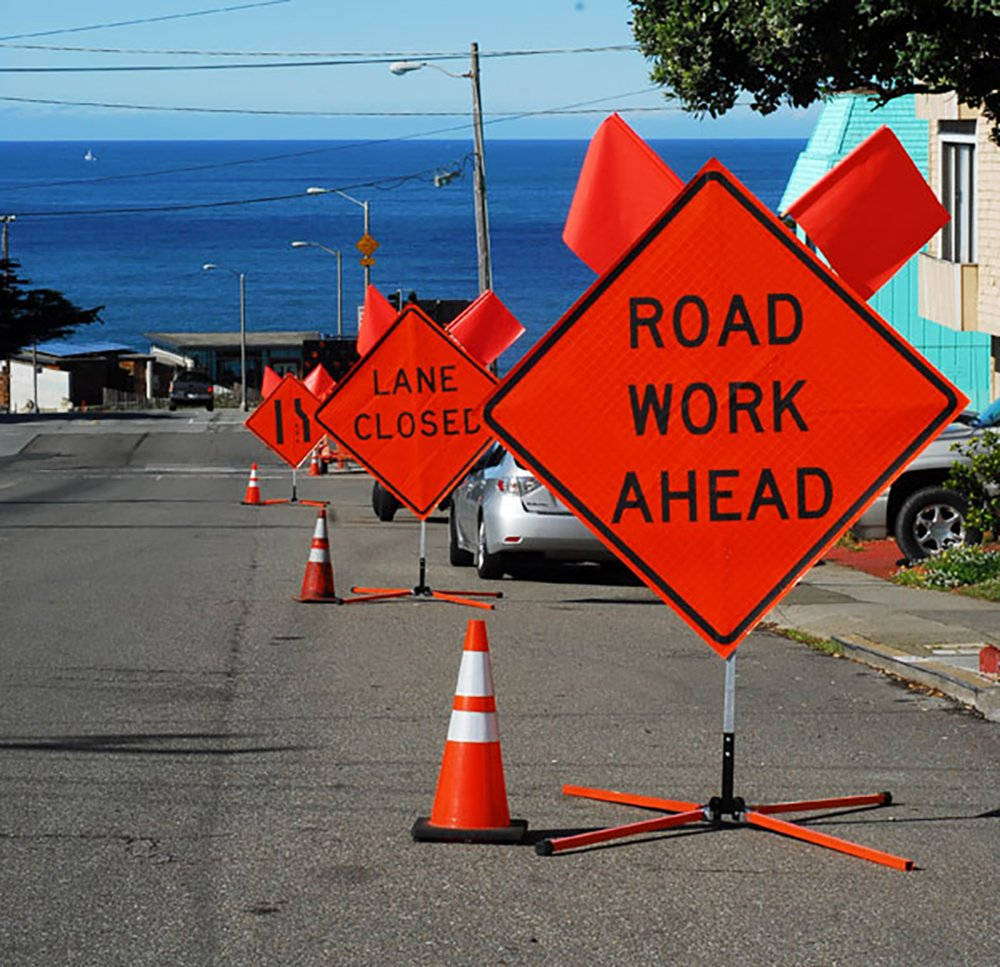Road_cone: (417, 615, 538, 845), (295, 499, 349, 608), (238, 461, 269, 507)
Road_workahead: (468, 172, 940, 645), (312, 304, 522, 518)
